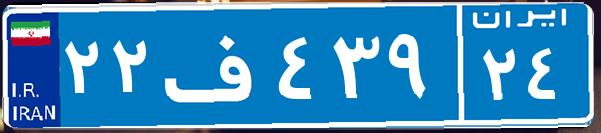2: (57, 26, 110, 107), (475, 38, 525, 113), (110, 28, 158, 105)
3: (330, 28, 385, 110)
4: (273, 28, 330, 110), (525, 38, 570, 115)
9: (385, 28, 445, 110)
ف: (158, 15, 273, 115)
